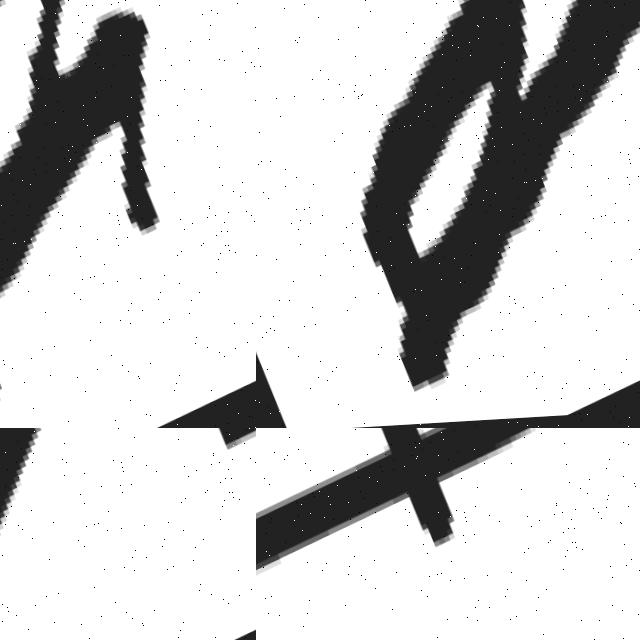B: (361, 0, 640, 393)
F: (256, 428, 536, 576)
N: (0, 0, 232, 383)
Z: (0, 428, 256, 640)
